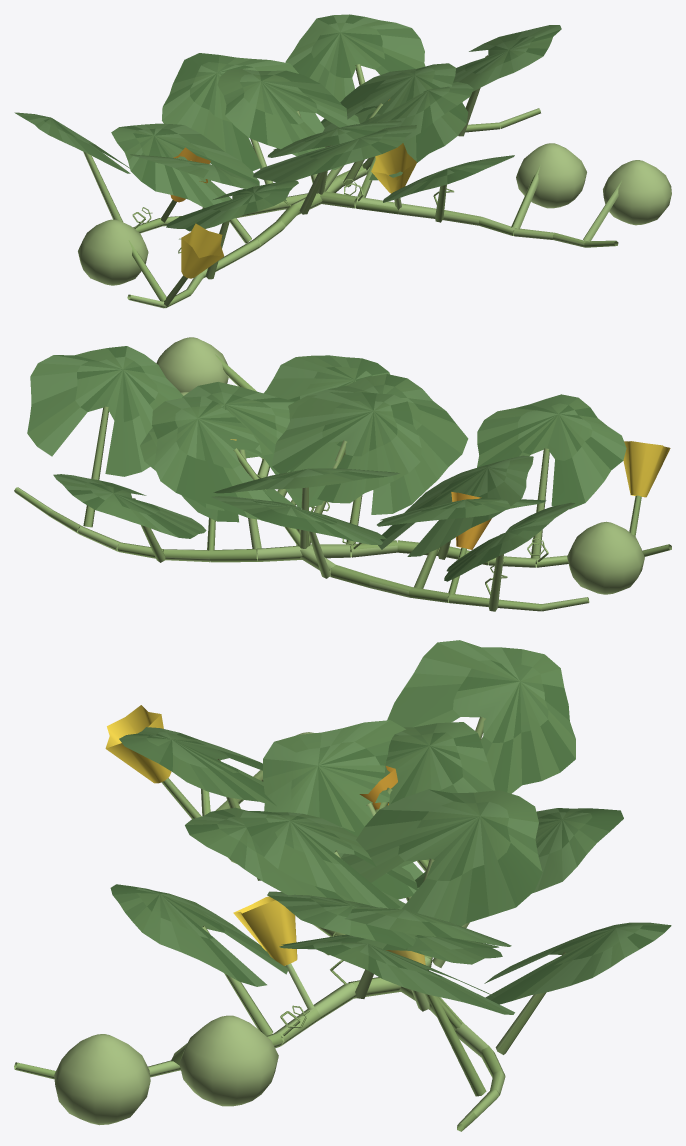
File: melon_brode_fruits.glb
The picture shows the model from 3 angles, top to bottom: view 1: azimuth 30°, elevation 25°; view 2: azimuth 150°, elevation 25°; view 3: azimuth 270°, elevation 25°; orthographic projection. The views are drawn at different scales.
Visible parts, largest first — view 1: Melon_Feuilles, Melon_Tiges, Melon_Fruits, Melon_Fleurs; view 2: Melon_Feuilles, Melon_Tiges, Melon_Fruits, Melon_Fleurs; view 3: Melon_Feuilles, Melon_Fruits, Melon_Tiges, Melon_Fleurs.
Boxes of the visible parts, x1,y1,x2,y2 form: Melon_Feuilles: (14, 14, 561, 231); Melon_Tiges: (83, 55, 621, 308); Melon_Fruits: (78, 143, 671, 285); Melon_Fleurs: (170, 99, 416, 278); Melon_Feuilles: (27, 346, 626, 581); Melon_Tiges: (14, 354, 671, 611); Melon_Fruits: (156, 337, 644, 594); Melon_Fleurs: (230, 439, 670, 549); Melon_Feuilles: (110, 640, 671, 1014); Melon_Fruits: (54, 732, 314, 1125); Melon_Tiges: (14, 716, 566, 1131); Melon_Fleurs: (105, 705, 425, 965).
Bounding box in the file's own units: 1.18 × 0.2784 × 0.9387.
